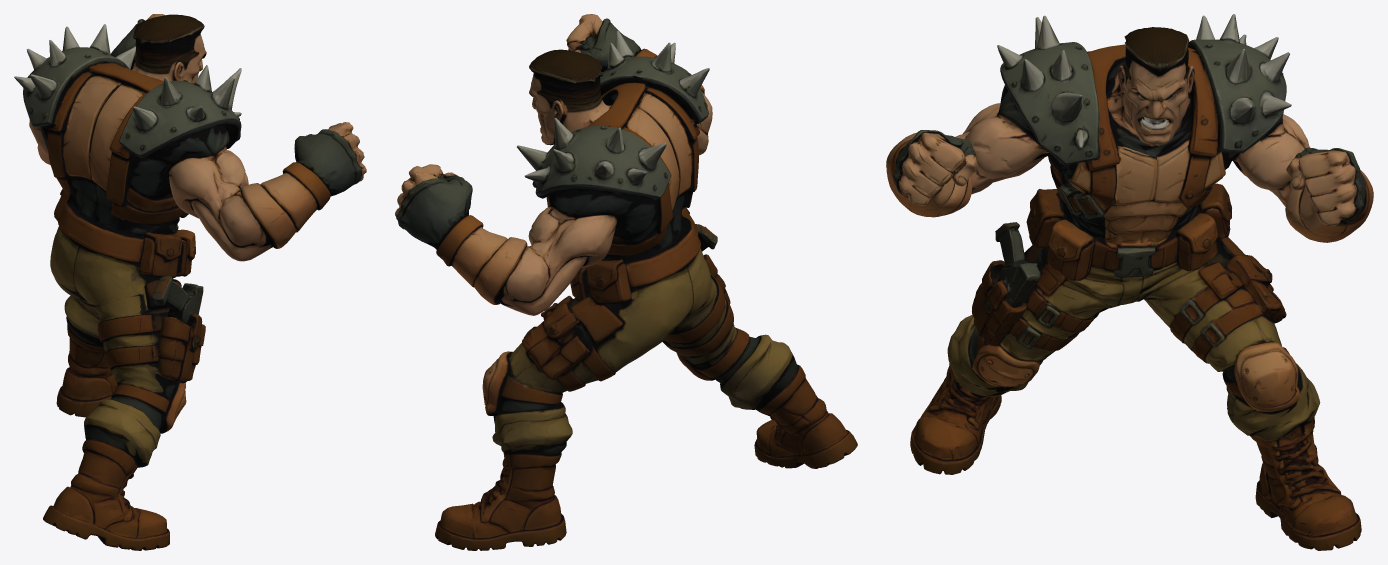
Rendered from warbird (1).glb.
The picture shows the model from 3 angles, left to right: view 1: azimuth 30°, elevation 25°; view 2: azimuth 150°, elevation 25°; view 3: azimuth 270°, elevation 25°; orthographic projection. The views are drawn at different scales.
Visible parts, largest first — view 1: tripo_node_c4d9a01e-5553-4090-87f7-bbdc3c4257cf; view 2: tripo_node_c4d9a01e-5553-4090-87f7-bbdc3c4257cf; view 3: tripo_node_c4d9a01e-5553-4090-87f7-bbdc3c4257cf.
Boxes of the visible parts, bbox=[...] form: tripo_node_c4d9a01e-5553-4090-87f7-bbdc3c4257cf: bbox=[14, 14, 366, 550]; tripo_node_c4d9a01e-5553-4090-87f7-bbdc3c4257cf: bbox=[395, 14, 857, 550]; tripo_node_c4d9a01e-5553-4090-87f7-bbdc3c4257cf: bbox=[886, 14, 1373, 550].
Size of the model in its own units: 0.7056 by 1 by 0.8874.
1 material, 1 textured.
